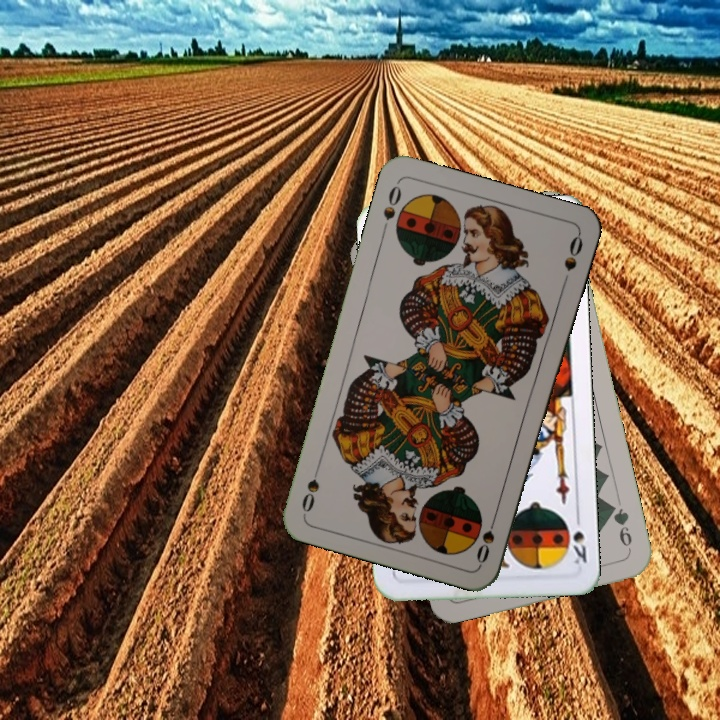G9: (605, 500, 635, 556)
SK: (569, 510, 589, 568)
SO: (472, 508, 500, 566), (379, 178, 404, 223)
